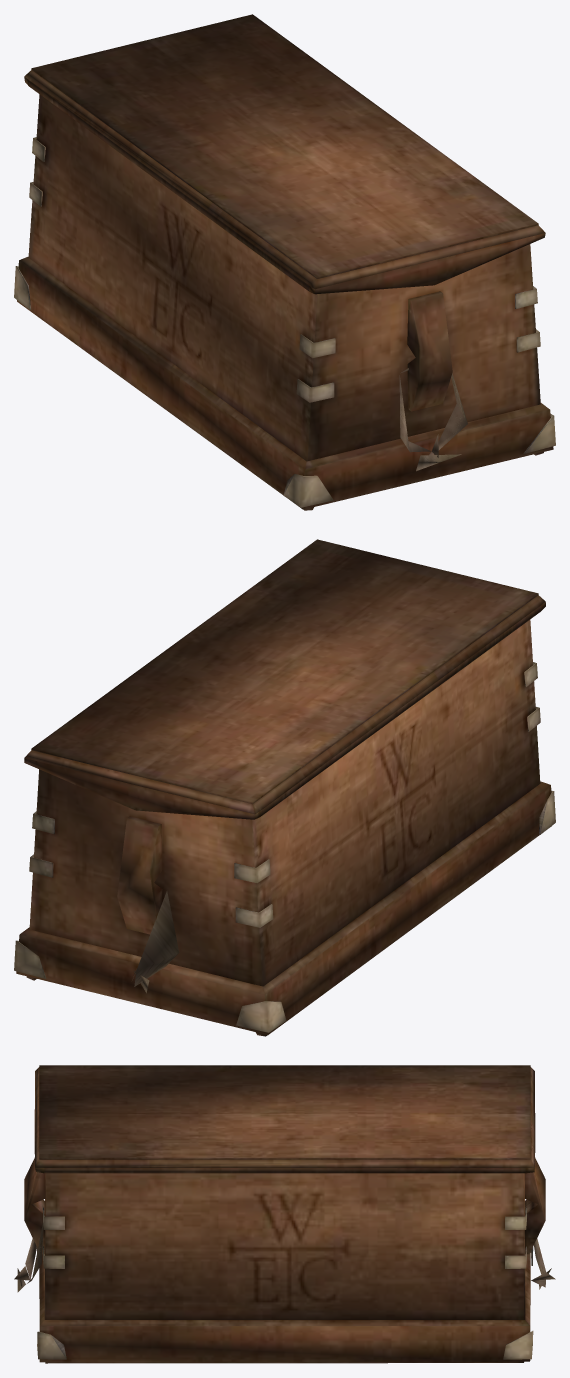
Rendered from p_crate.glb.
The picture shows the model from 3 angles, top to bottom: view 1: azimuth 30°, elevation 25°; view 2: azimuth 150°, elevation 25°; view 3: azimuth 270°, elevation 25°; orthographic projection. The views are drawn at different scales.
Parts seen in each view (by area): view 1: wooden_crate_02_crate, wooden_crate_02_lid; view 2: wooden_crate_02_crate, wooden_crate_02_lid; view 3: wooden_crate_02_crate, wooden_crate_02_lid.
Part boxes in pixels (<box>): wooden_crate_02_crate: <box>14,94,555,510</box>; wooden_crate_02_lid: <box>24,14,545,294</box>; wooden_crate_02_crate: <box>14,620,555,1036</box>; wooden_crate_02_lid: <box>24,539,545,819</box>; wooden_crate_02_crate: <box>14,1157,555,1363</box>; wooden_crate_02_lid: <box>34,1065,535,1173</box>.
Size of the model in its own units: 0.529 by 0.4628 by 1.12.
1 material, 1 textured.
